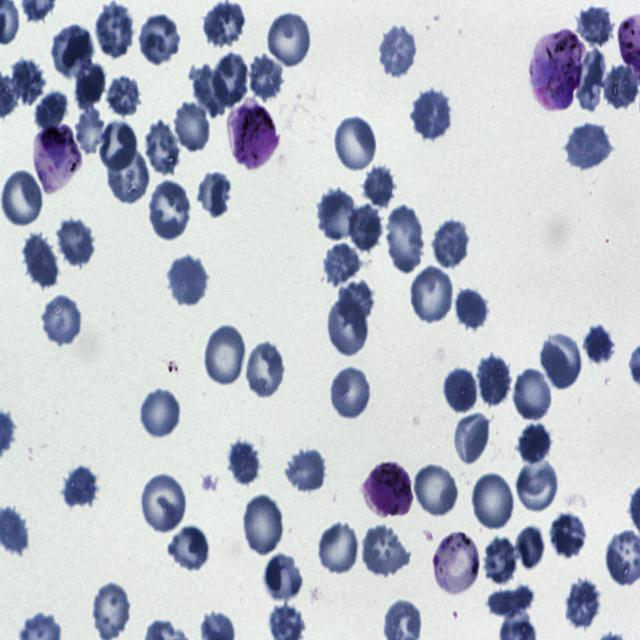difficult: (531, 29, 582, 111)
gametocyte: (230, 100, 278, 169), (362, 459, 414, 517)
red blood cell: (384, 206, 427, 276), (140, 472, 188, 534), (266, 8, 313, 70), (204, 322, 248, 388), (326, 292, 371, 356), (410, 264, 456, 326), (106, 144, 151, 207), (471, 470, 516, 532), (242, 492, 284, 558), (146, 181, 192, 241), (361, 523, 412, 577), (515, 455, 560, 516), (333, 114, 379, 173), (414, 461, 461, 518), (245, 339, 288, 401), (318, 518, 361, 576), (166, 523, 212, 577), (512, 366, 554, 424), (377, 22, 419, 79), (137, 12, 182, 65), (141, 120, 182, 178), (90, 582, 131, 640), (140, 386, 183, 441), (0, 171, 43, 226), (540, 333, 582, 389), (166, 253, 208, 309), (565, 122, 613, 171), (329, 366, 372, 420), (40, 293, 83, 347), (50, 24, 93, 77), (411, 88, 453, 142), (94, 4, 136, 58), (317, 188, 359, 242), (188, 63, 230, 117), (284, 445, 328, 495), (173, 98, 212, 154), (54, 217, 96, 269), (23, 234, 62, 290), (212, 51, 250, 108), (452, 411, 492, 465), (564, 577, 603, 630), (97, 122, 138, 172), (477, 352, 512, 409), (247, 51, 286, 102), (346, 201, 384, 253), (203, 0, 245, 47), (60, 464, 100, 513), (430, 218, 470, 266), (576, 47, 606, 111), (574, 4, 616, 49), (604, 57, 639, 111), (549, 512, 588, 560), (360, 162, 398, 211), (482, 534, 519, 584), (260, 555, 302, 599), (322, 240, 360, 288), (443, 366, 479, 416), (226, 439, 262, 489), (454, 285, 489, 336), (72, 54, 105, 108), (336, 278, 372, 324), (197, 171, 231, 217), (514, 526, 548, 572), (12, 58, 46, 103), (106, 76, 142, 118), (76, 106, 105, 155), (518, 423, 552, 464), (34, 90, 68, 128), (584, 326, 617, 365)
ring: (434, 529, 482, 598)
trophozoite: (35, 124, 84, 194)
